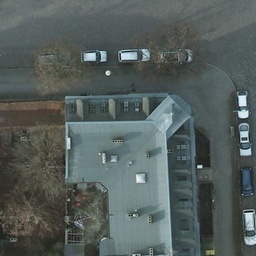car: (159, 44, 194, 64), (35, 54, 67, 71), (239, 121, 254, 156), (118, 47, 150, 63), (81, 49, 107, 66), (238, 167, 253, 196), (237, 89, 250, 119)
